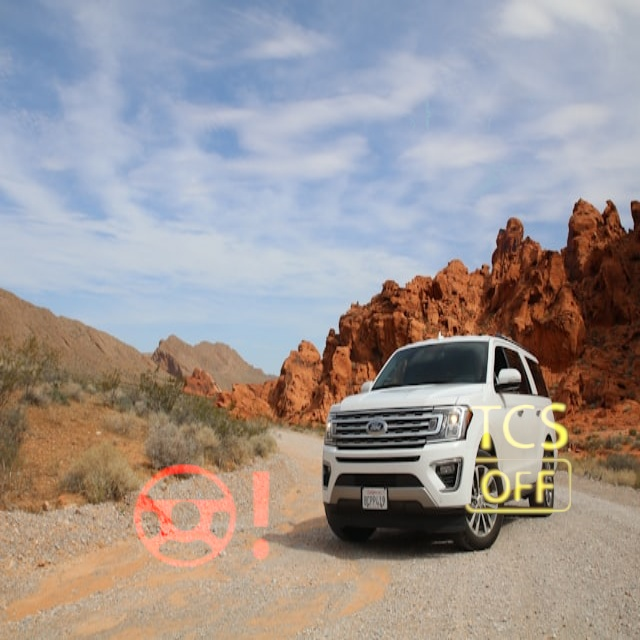symbol: (358, 36, 573, 251), (433, 373, 608, 548), (119, 434, 286, 601)
